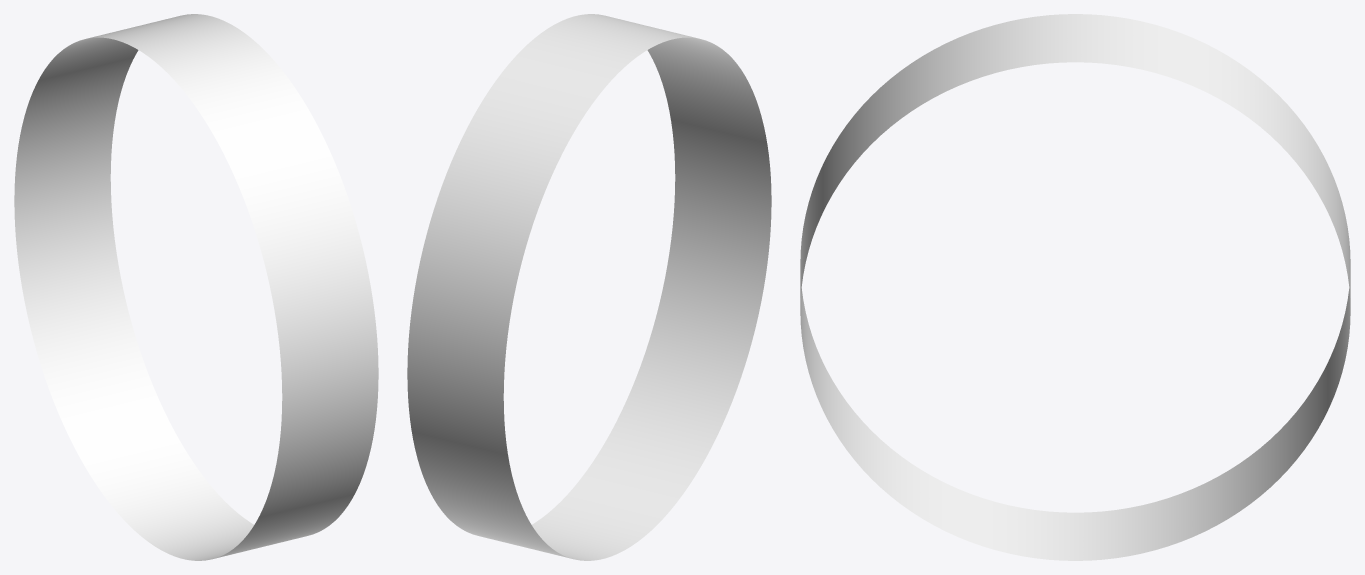
File: film.FBX
3 renders of one model, left to right at view 1: azimuth 30°, elevation 25°; view 2: azimuth 150°, elevation 25°; view 3: azimuth 270°, elevation 25°, orthographic. The views are drawn at different scales.
Visible parts, largest first — view 1: Cylinder01; view 2: Cylinder01; view 3: Cylinder01.
Boxes of the visible parts, x1,y1,x2,y2 form: Cylinder01: (14, 14, 378, 560); Cylinder01: (407, 14, 771, 560); Cylinder01: (800, 14, 1350, 560).
Bounding box in the file's own units: 41.3 × 199 × 199.
1 material, 1 textured.
